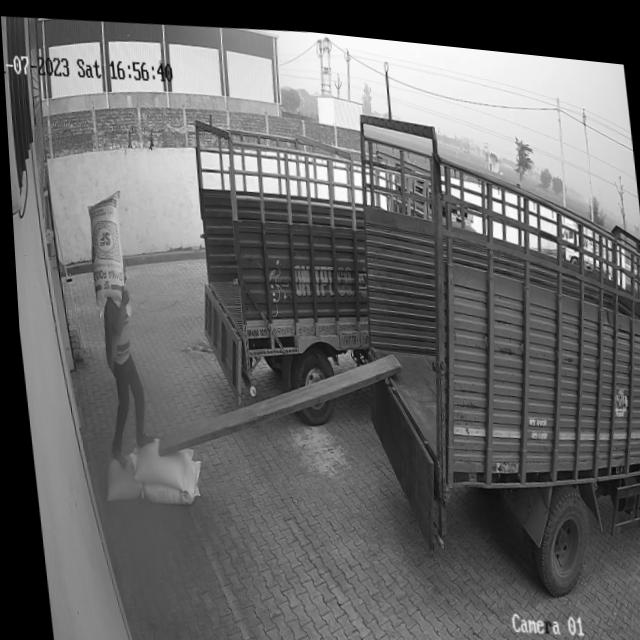sack: (81, 183, 130, 315), (132, 450, 199, 506), (125, 442, 193, 491), (96, 450, 138, 503)
